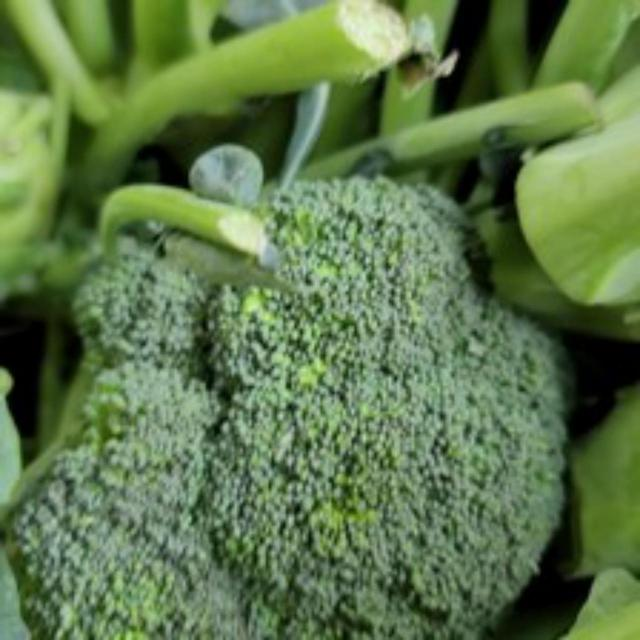broccoli: (0, 146, 580, 636)
